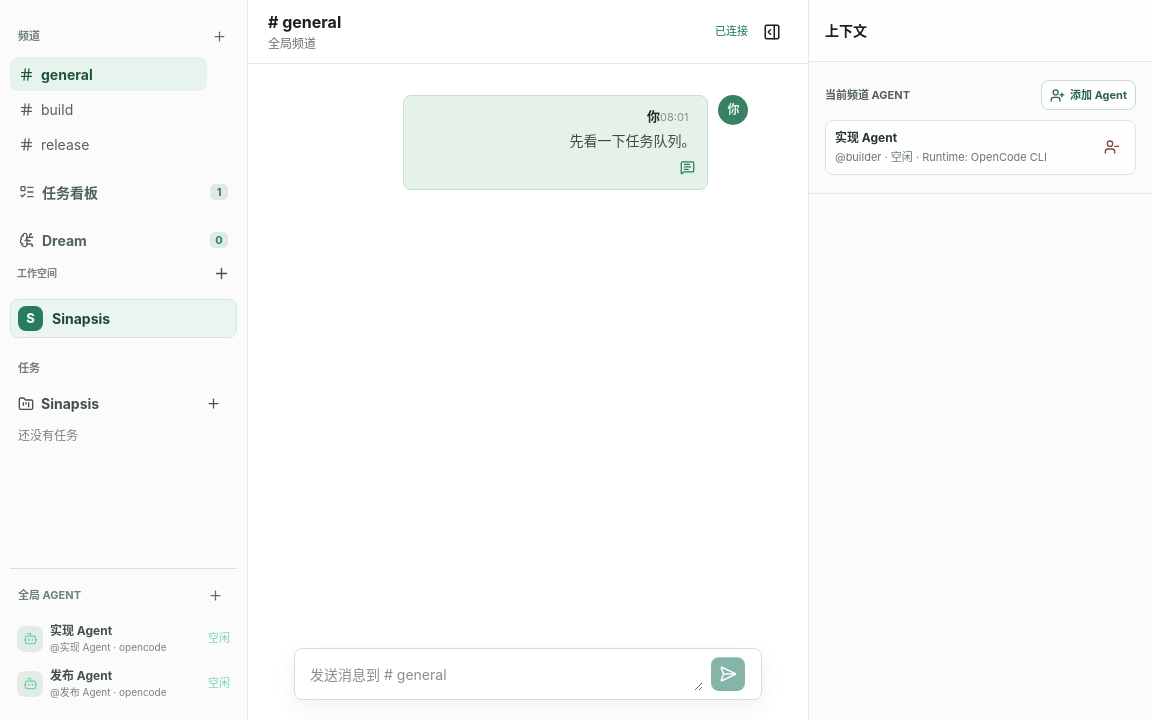
Test: WorkspaceShell › shows only the workspaces bound to the selected channel
What coordinates should you click on to do the following:
click the button with aria-label "# release"
I would click on:
 (108, 144)
Its box is top-left (10, 127), bottom-right (207, 161).
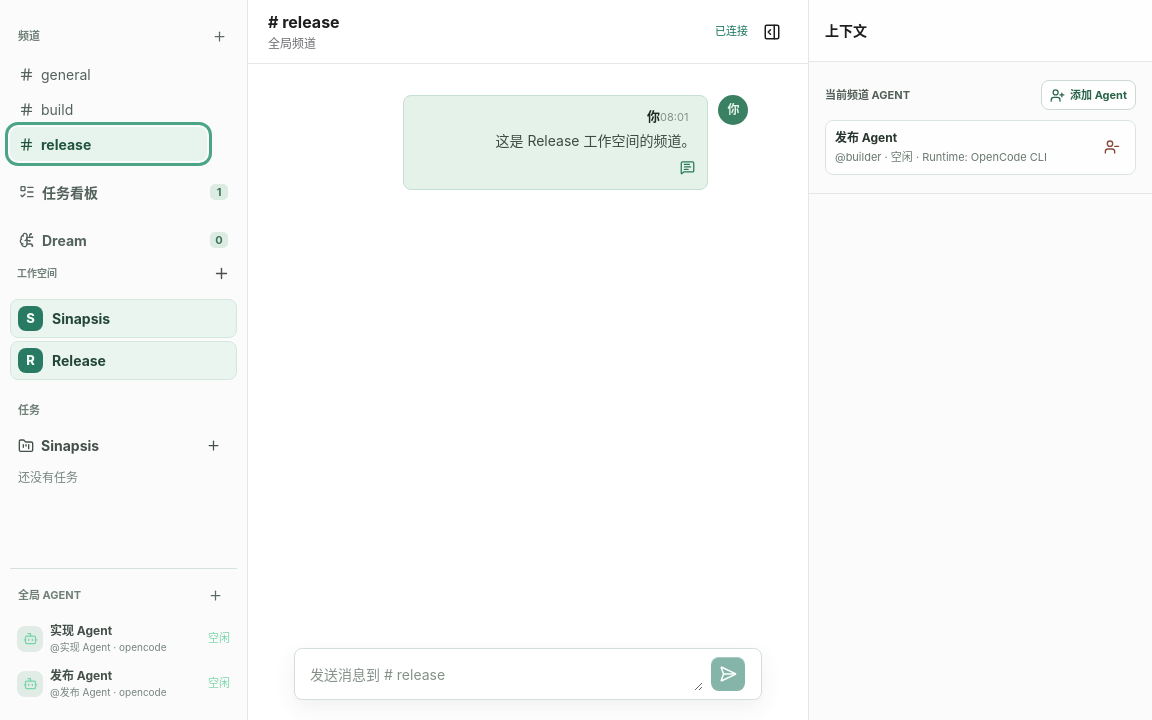
Expected: the element named "release 的工作空间" shows "Sinapsis", top-left (10, 299), bottom-right (237, 338)
Expected: the text "这是 Release 工作空间的频道。" is shown, top-left (496, 132), bottom-right (696, 148)
Expected: the element named "release 的工作空间" shows "Release", top-left (10, 341), bottom-right (237, 380)
